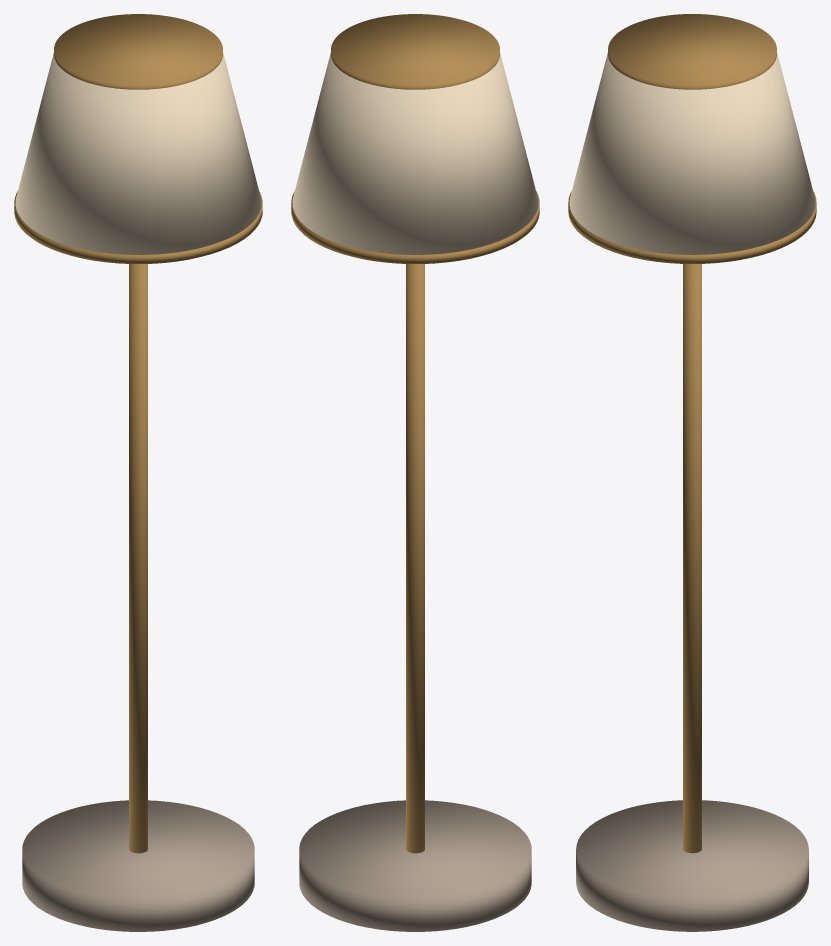
Rendered from project-brass-floor-lamp.glb.
The picture shows the model from 3 angles, left to right: view 1: azimuth 30°, elevation 25°; view 2: azimuth 150°, elevation 25°; view 3: azimuth 270°, elevation 25°; orthographic projection.
Visible parts, largest first — view 1: linen-shade, stone-base, brass-stem, shade-ring-top, shade-ring-bottom; view 2: linen-shade, stone-base, brass-stem, shade-ring-top, shade-ring-bottom; view 3: linen-shade, stone-base, brass-stem, shade-ring-top, shade-ring-bottom.
Boxes of the visible parts, box(x1,y1,x2,y2) form: linen-shade: box(15, 52, 261, 254); stone-base: box(22, 800, 254, 931); brass-stem: box(129, 264, 147, 853); shade-ring-top: box(54, 14, 222, 89); shade-ring-bottom: box(14, 191, 262, 263); linen-shade: box(292, 52, 538, 254); stone-base: box(299, 800, 531, 931); brass-stem: box(406, 264, 424, 853); shade-ring-top: box(331, 14, 499, 89); shade-ring-bottom: box(291, 191, 539, 263); linen-shade: box(569, 53, 815, 254); stone-base: box(576, 800, 808, 931); brass-stem: box(683, 264, 701, 853); shade-ring-top: box(608, 14, 776, 89); shade-ring-bottom: box(568, 191, 816, 263).
Bounding box in the file's own units: 0.4697 × 1.74 × 0.4697.
